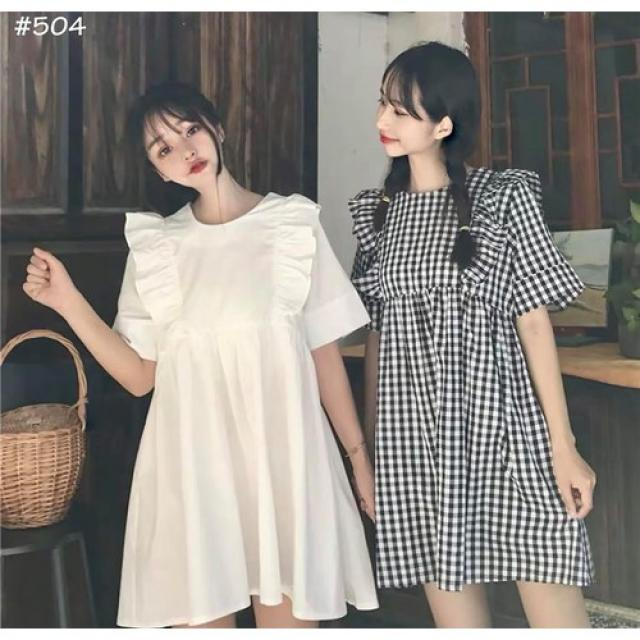clothes: (105, 200, 378, 627), (346, 166, 595, 590)
